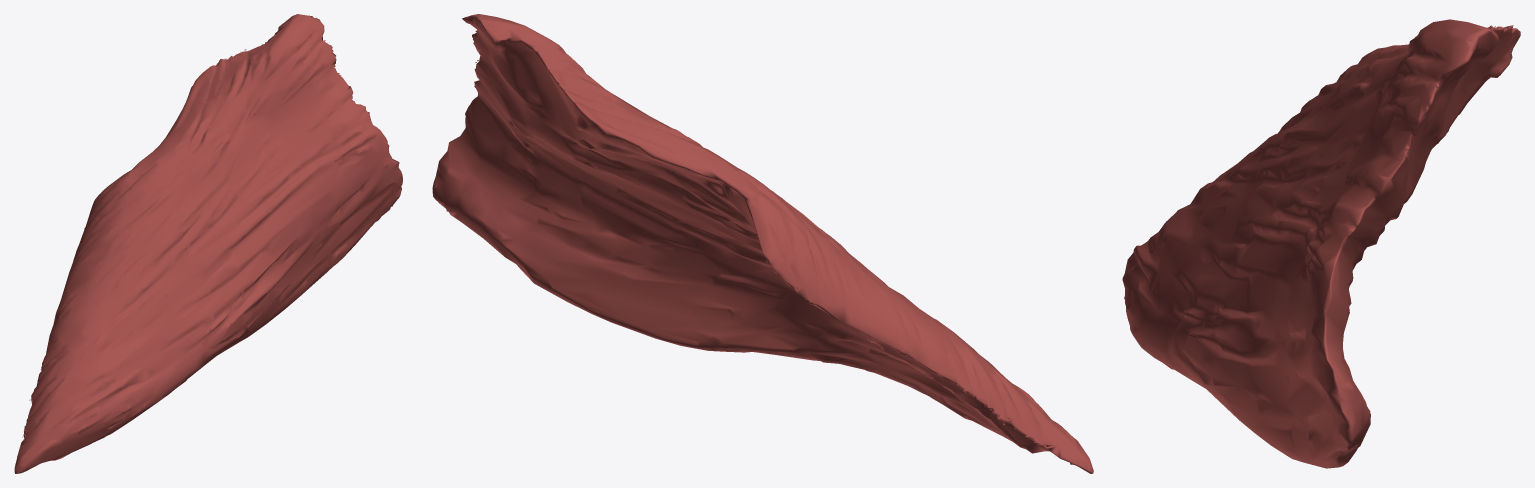
The model's file is FMA37390.glb.
3 renders of one model, left to right at view 1: azimuth 30°, elevation 25°; view 2: azimuth 150°, elevation 25°; view 3: azimuth 270°, elevation 25°, orthographic. The views are drawn at different scales.
Parts seen in each view (by area): view 1: FMA37390; view 2: FMA37390; view 3: FMA37390.
Part boxes in pixels (box(x1,y1,x2,y2)): FMA37390: box(14, 14, 402, 473); FMA37390: box(432, 14, 1093, 473); FMA37390: box(1122, 19, 1520, 468).
Bounding box in the file's own units: 0.0478 × 0.0322 × 0.0188.
